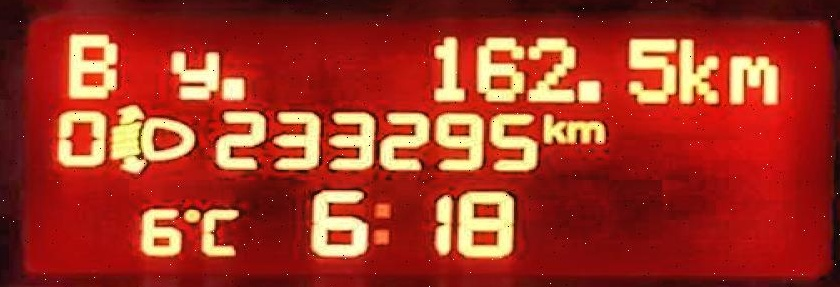-: (219, 72, 245, 102), (572, 76, 600, 103)
0: (52, 107, 105, 168)
1: (425, 31, 470, 103), (419, 188, 454, 256)
2: (525, 31, 574, 103), (378, 110, 427, 170), (217, 108, 263, 171)
3: (272, 108, 318, 171), (327, 108, 373, 171)
5: (619, 31, 675, 106), (485, 109, 535, 172)
6: (304, 186, 369, 258), (473, 34, 527, 104), (134, 206, 179, 257)
8: (457, 187, 517, 258)
9: (430, 110, 480, 171)
X: (65, 27, 119, 102), (675, 31, 719, 106), (162, 45, 218, 100), (727, 51, 778, 106), (198, 205, 237, 256), (367, 198, 393, 246), (565, 116, 602, 145), (540, 110, 564, 145)
